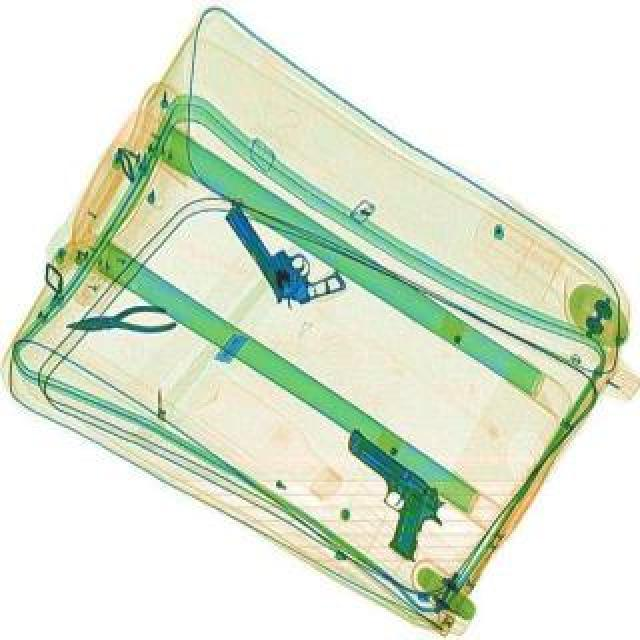gun: (302, 424, 462, 564), (220, 180, 348, 316)
wrench: (66, 302, 174, 340)
